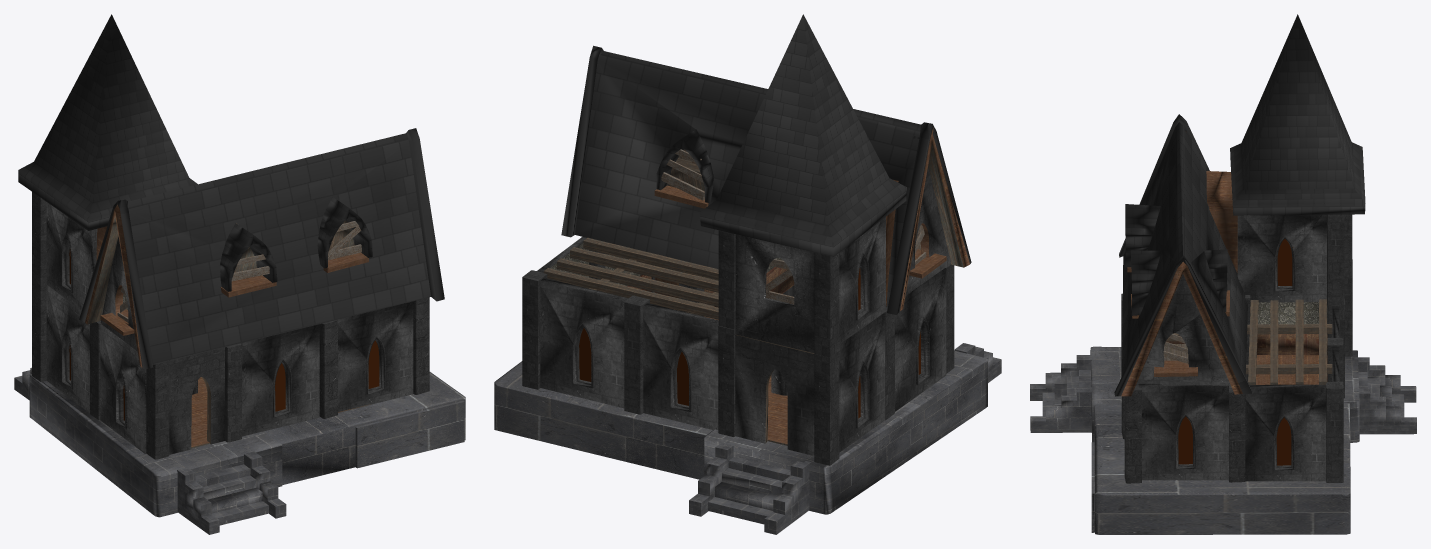
Rendered from KHN.glb.
3 views of the same model, side by side, from view 1: azimuth 30°, elevation 25°; view 2: azimuth 150°, elevation 25°; view 3: azimuth 270°, elevation 25° (orthographic). The views are drawn at different scales.
Visible parts, largest first — view 1: KILLERHOUSE; view 2: KILLERHOUSE; view 3: KILLERHOUSE.
Part boxes in pixels (x1,y1,x2,y2): KILLERHOUSE: [14, 14, 465, 534]; KILLERHOUSE: [494, 14, 1001, 534]; KILLERHOUSE: [1030, 14, 1416, 534].
Size of what is drawn, in the model's own units: 20.15 by 25.36 by 22.16.
Materials: 10 (9 with a texture image).
